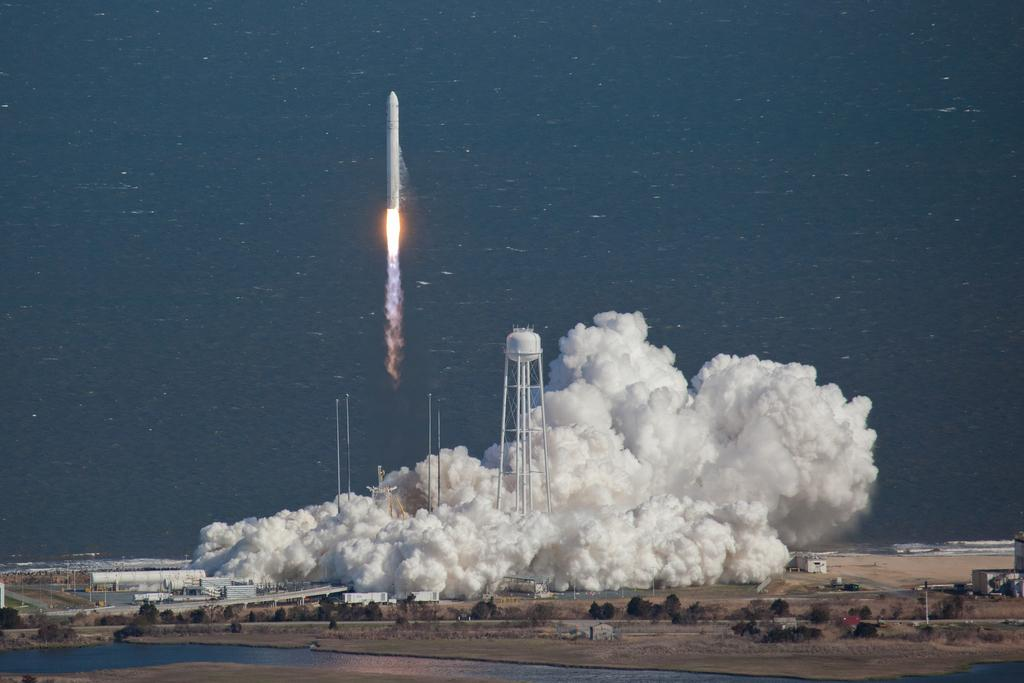Missile: (385, 93, 402, 213)
